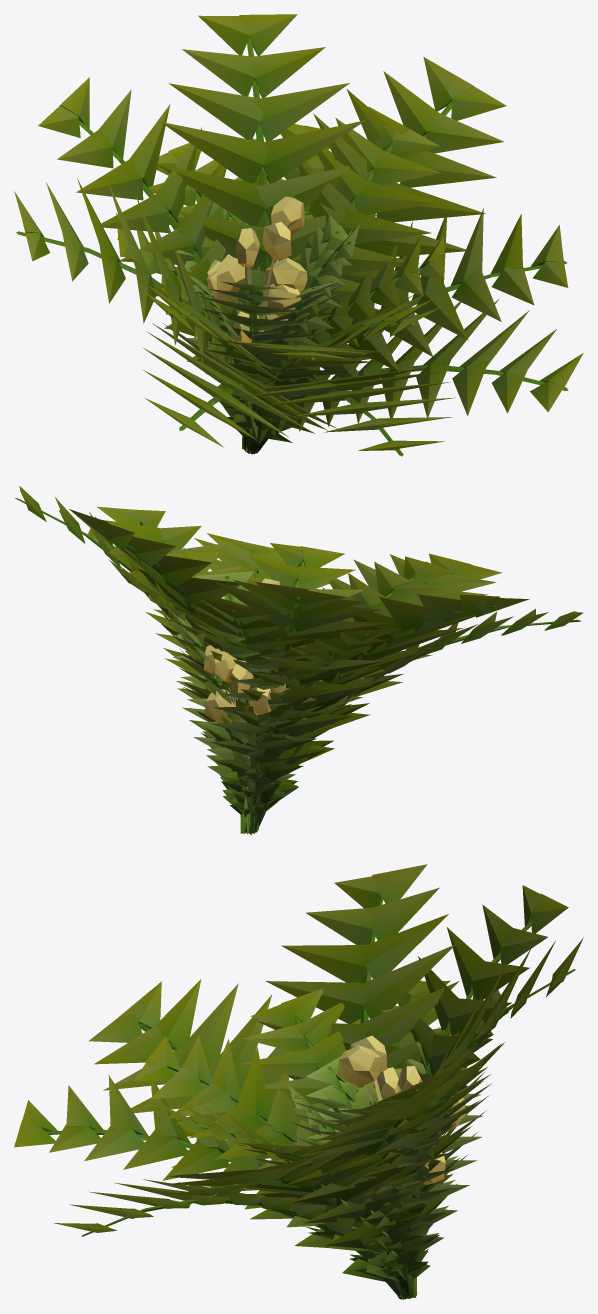
Rendered from vegetasi_fern_savanna_765145.glb.
3 views of the same model, one above another, from view 1: azimuth 30°, elevation 25°; view 2: azimuth 150°, elevation 25°; view 3: azimuth 270°, elevation 25° (orthographic). The views are drawn at different scales.
Parts seen in each view (by area): view 1: Pakis_Tropis_Sungai; view 2: Pakis_Tropis_Sungai; view 3: Pakis_Tropis_Sungai.
Part boxes in pixels (bbox=[...]): Pakis_Tropis_Sungai: bbox=[14, 14, 583, 456]; Pakis_Tropis_Sungai: bbox=[15, 486, 583, 835]; Pakis_Tropis_Sungai: bbox=[14, 864, 583, 1299].
Bounding box in the file's own units: 2.83 × 1.97 × 2.7.
